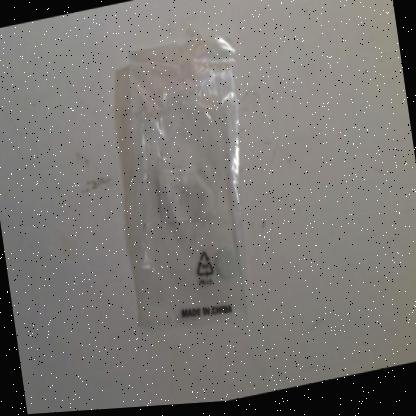Plastic: (114, 38, 246, 328)
